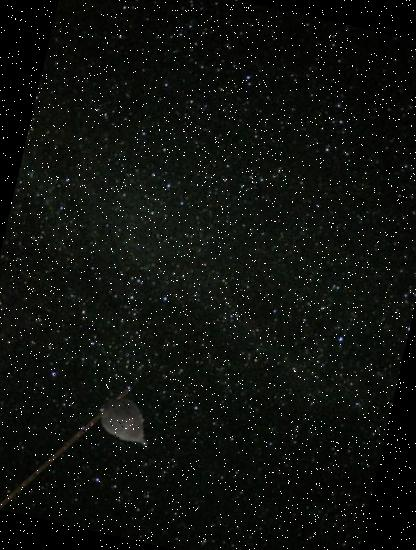Beetroot: (87, 387, 164, 463)
